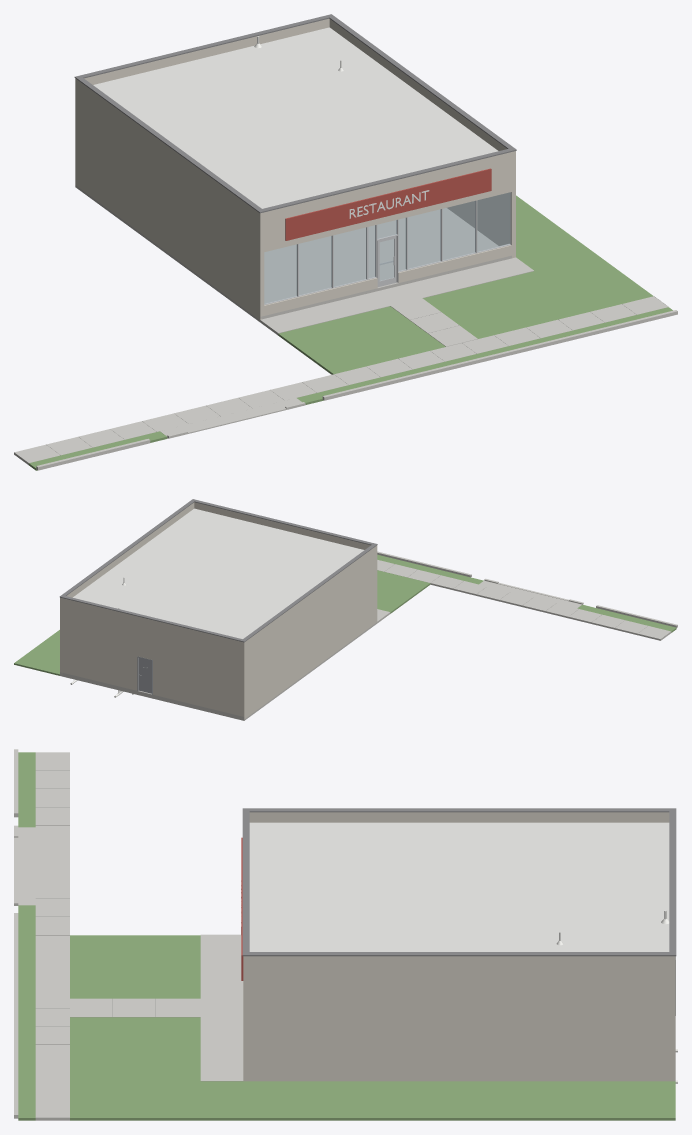
Rendered from commercial_storefront.glb.
3 views of the same model, one above another, from view 1: azimuth 30°, elevation 25°; view 2: azimuth 150°, elevation 25°; view 3: azimuth 270°, elevation 25° (orthographic). The views are drawn at different scales.
Parts seen in each view (by area): view 1: roof_store, floor_lot_commercial_grass, wall_store_west_body, win_store_front, floor_store_slab, floor_lot_commercial_sidewalk, wall_store_front_body, floor_lot_commercial_walk, trim_store_sign, trim_store_coping, wall_store_east_body, curb_commercial (+4 smaller); view 2: roof_store, wall_store_back_body, wall_store_west_body, floor_lot_commercial_grass, floor_lot_commercial_sidewalk, trim_store_coping, wall_store_front_body, floor_store_slab, wall_store_east_body, curb_commercial, floor_lot_commercial_apron, door_store_back; view 3: roof_store, wall_store_east_body, floor_lot_commercial_grass, floor_lot_commercial_sidewalk, floor_lot_commercial_walk, trim_store_coping, wall_store_west_body, curb_commercial, floor_lot_commercial_apron.
Part boxes in pixels (x1,y1,x2,y2): roof_store: [93, 27, 498, 208]; floor_lot_commercial_grass: [29, 195, 672, 470]; wall_store_west_body: [75, 78, 264, 319]; win_store_front: [264, 192, 509, 303]; floor_store_slab: [75, 185, 511, 321]; floor_lot_commercial_sidewalk: [14, 296, 668, 465]; wall_store_front_body: [264, 152, 511, 315]; floor_lot_commercial_walk: [260, 257, 533, 346]; trim_store_sign: [285, 168, 491, 240]; trim_store_coping: [74, 14, 516, 213]; wall_store_east_body: [329, 19, 515, 258]; curb_commercial: [36, 310, 677, 470]; roof_store: [73, 508, 364, 638]; wall_store_back_body: [63, 598, 241, 715]; wall_store_west_body: [241, 545, 377, 719]; floor_lot_commercial_grass: [14, 554, 676, 675]; floor_lot_commercial_sidewalk: [377, 560, 671, 640]; trim_store_coping: [59, 499, 377, 642]; wall_store_front_body: [194, 502, 370, 549]; floor_store_slab: [60, 622, 377, 720]; wall_store_east_body: [60, 502, 194, 674]; curb_commercial: [377, 551, 677, 627]; floor_lot_commercial_apron: [479, 580, 581, 608]; door_store_back: [139, 657, 151, 693]; roof_store: [249, 822, 669, 951]; wall_store_east_body: [243, 956, 675, 1081]; floor_lot_commercial_grass: [18, 752, 675, 1120]; floor_lot_commercial_sidewalk: [35, 752, 69, 1120]; floor_lot_commercial_walk: [70, 934, 243, 1081]; trim_store_coping: [242, 808, 676, 956]; wall_store_west_body: [249, 812, 669, 822]; curb_commercial: [14, 749, 18, 1118]; floor_lot_commercial_apron: [18, 827, 35, 905].
Size of the model in its own units: 30.49 by 5.51 by 23.4.
